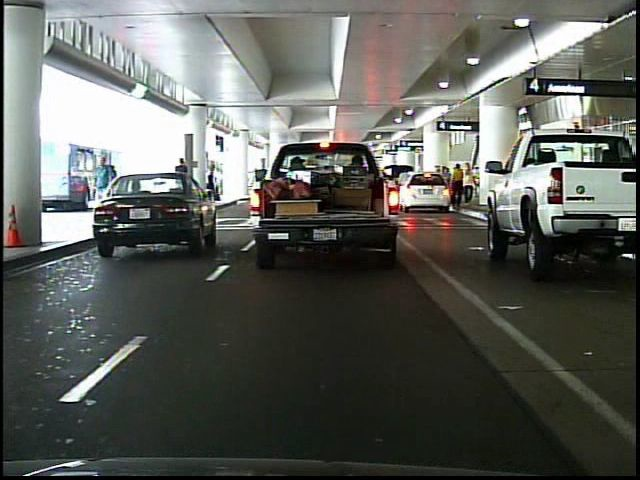person: (85, 148, 120, 230), (445, 160, 470, 219), (171, 154, 196, 206)
